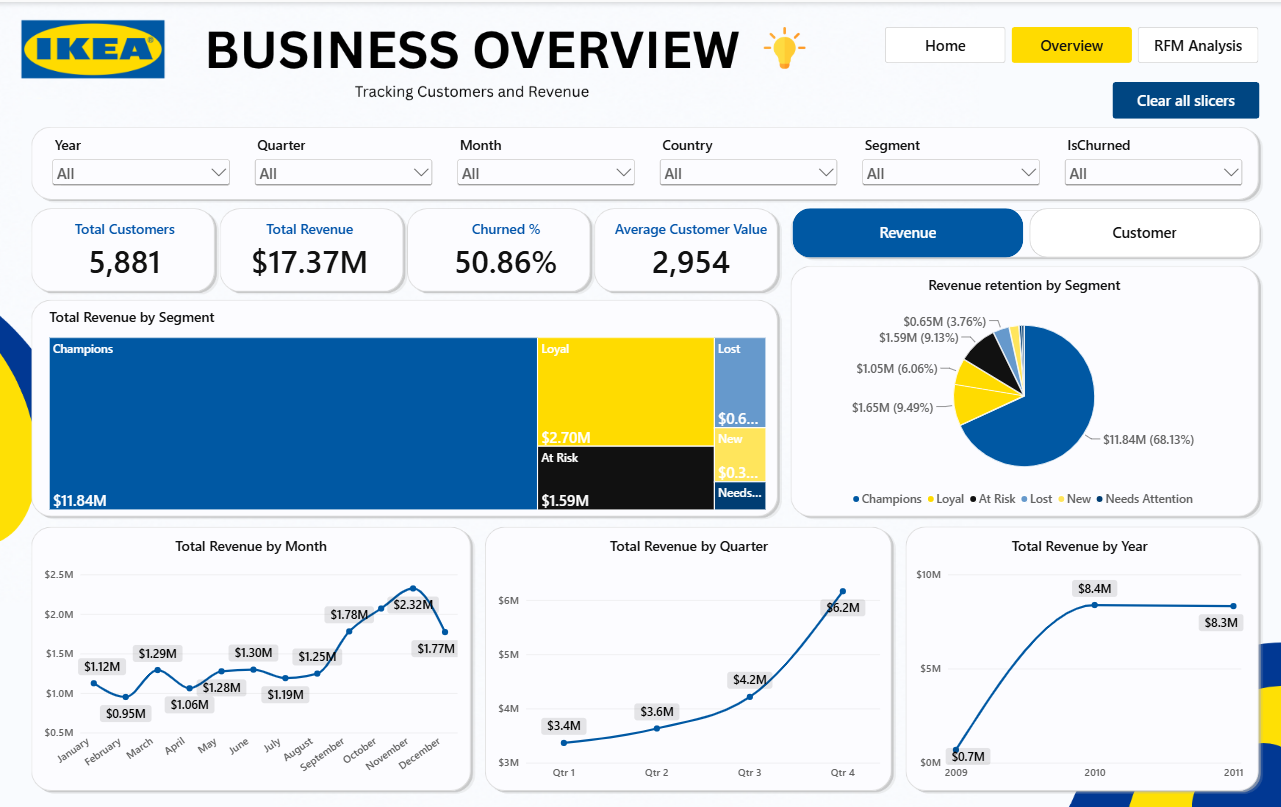

The page's visual inventory and layout, read from the dashboard file:
{"tool":"powerbi","page":{"name":"Overview","canvas":[1750,1100],"ordinal":1},"visuals":[{"type":"cardVisual","fields":{"Data":["Sheet1.Total Customers"]},"box":[44.6,283.9,251.8,108.9],"z":0},{"type":"lineChart","fields":{"Category":["Sheet1.InvoiceDate.Variation.Date Hierarchy.Month"],"Y":["Sheet1.Total Customers"]},"box":[45.3,719.3,594.6,366.1],"z":0,"group":"g1"},{"type":"cardVisual","fields":{"Data":["Sheet1.Total Revenue"]},"box":[296.4,283.9,251.8,108.9],"z":1000},{"type":"clusteredBarChart","fields":{"Category":["Sheet1.Segment"],"Y":["Sheet1.Total Customers"]},"box":[67,406,999.2,297.6],"z":1000,"group":"g1"},{"type":"cardVisual","fields":{"Data":["Sheet1.Churned %"]},"box":[562.5,283.9,251.8,108.9],"z":2000},{"type":"barChart","title":"Customer Retention by Segment","fields":{"Category":["Sheet1.Segment"],"Series":["Sheet1.IsChurned"],"Y":["Sheet1.Total Customers"]},"box":[1078,356.7,636.5,346.8],"z":2000,"group":"g1"},{"type":"cardVisual","fields":{"Data":["Sheet1.Average Customer Value"]},"box":[814.3,283.9,251.8,108.9],"z":3000},{"type":"lineChart","fields":{"Category":["Sheet1.InvoiceDate.Variation.Date Hierarchy.Quarter"],"Y":["Sheet1.Total Customers"]},"box":[658.2,719.3,555.7,366.6],"z":3000,"group":"g1"},{"type":"slicer","fields":{"Values":["Sheet1.InvoiceDate.Variation.Date Hierarchy.Year"]},"box":[66.1,182.1,251.8,69.6],"z":4000},{"type":"lineChart","fields":{"Category":["Sheet1.InvoiceDate.Variation.Date Hierarchy.Year"],"Y":["Sheet1.Total Customers"]},"box":[1235.6,719.3,478.9,352.8],"z":4000,"group":"g1"},{"type":"slicer","fields":{"Values":["Sheet1.InvoiceDate.Variation.Date Hierarchy.Quarter"]},"box":[341.8,182.1,251.8,69.6],"z":5000},{"type":"slicer","fields":{"Values":["Sheet1.InvoiceDate.Variation.Date Hierarchy.Month"]},"box":[617.5,182.1,251.8,69.6],"z":6000},{"type":"slicer","fields":{"Values":["Sheet1.Country"]},"box":[893.2,182.1,251.8,69.6],"z":7000},{"type":"slicer","fields":{"Values":["Sheet1.Segment"]},"box":[1168.9,182.1,251.8,69.6],"z":8000},{"type":"slicer","fields":{"Values":["Sheet1.IsChurned"]},"box":[1444.6,182.1,251.8,69.6],"z":9000},{"type":"bookmarkNavigator","box":[1078,279.8,636.5,67],"z":10000},{"type":"group","id":"g1","title":"Group 2","box":[45.3,356.7,1669.2,729.2],"z":12000},{"type":"actionButton","box":[1513.6,108.8,200,50],"z":13000},{"type":"image","box":[1038.6,33.5,57.2,57.2],"z":14000},{"type":"pageNavigator","box":[1204.1,34,510.2,49.3],"z":19000}]}

Visuals, with their boxes in screenshot pixels (x1, y1, x2, y2), scaled from the page's 1750x1100 canvas onto the 1281x807 screenshot:
cardVisual - Sheet1.Total Customers: box(33, 208, 217, 288)
lineChart - Sheet1.InvoiceDate.Variation.Date Hierarchy.Month x Sheet1.Total Customers: box(33, 528, 468, 796)
cardVisual - Sheet1.Total Revenue: box(217, 208, 401, 288)
clusteredBarChart - Sheet1.Segment x Sheet1.Total Customers: box(49, 298, 780, 516)
cardVisual - Sheet1.Churned %: box(412, 208, 596, 288)
"Customer Retention by Segment" barChart: box(789, 262, 1255, 516)
cardVisual - Sheet1.Average Customer Value: box(596, 208, 780, 288)
lineChart - Sheet1.InvoiceDate.Variation.Date Hierarchy.Quarter x Sheet1.Total Customers: box(482, 528, 889, 797)
slicer - Sheet1.InvoiceDate.Variation.Date Hierarchy.Year: box(48, 134, 233, 185)
lineChart - Sheet1.InvoiceDate.Variation.Date Hierarchy.Year x Sheet1.Total Customers: box(904, 528, 1255, 787)
slicer - Sheet1.InvoiceDate.Variation.Date Hierarchy.Quarter: box(250, 134, 435, 185)
slicer - Sheet1.InvoiceDate.Variation.Date Hierarchy.Month: box(452, 134, 636, 185)
slicer - Sheet1.Country: box(654, 134, 838, 185)
slicer - Sheet1.Segment: box(856, 134, 1040, 185)
slicer - Sheet1.IsChurned: box(1057, 134, 1242, 185)
bookmarkNavigator: box(789, 205, 1255, 254)
"Group 2" group: box(33, 262, 1255, 797)
actionButton: box(1108, 80, 1254, 117)
image: box(760, 25, 802, 67)
pageNavigator: box(881, 25, 1255, 61)
